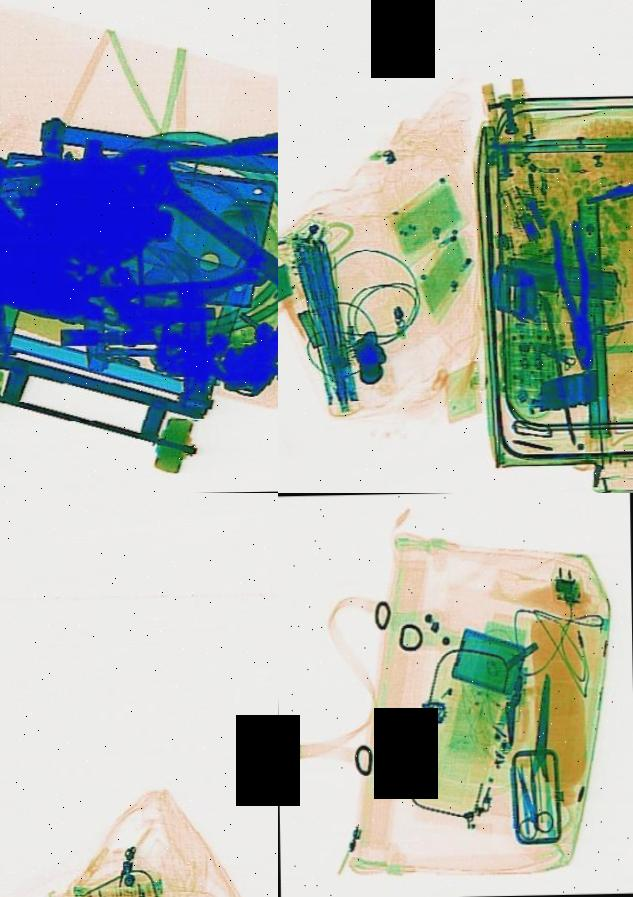Pliers: (542, 214, 602, 370)
Scissors: (499, 760, 556, 842)
Wrench: (101, 129, 278, 324)
